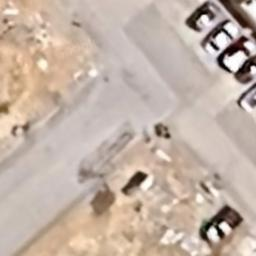pickup: (198, 204, 244, 242)
sedan: (204, 18, 238, 57), (184, 0, 222, 32)
unknown: (222, 38, 254, 74)
